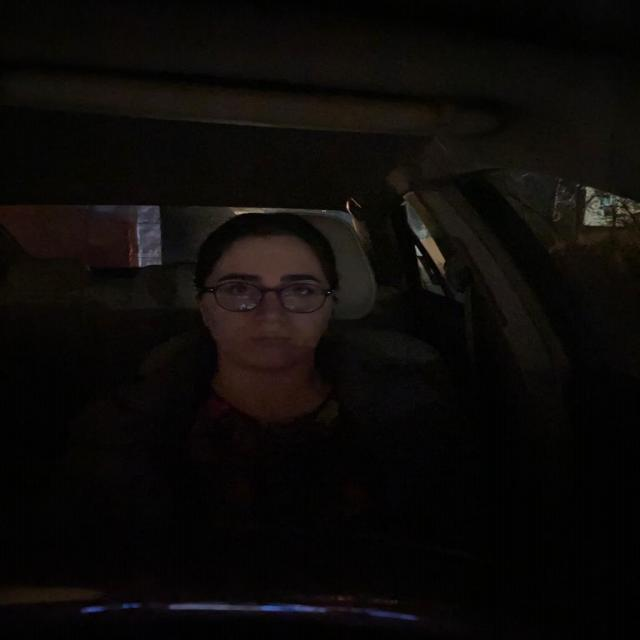person: (180, 198, 360, 383)
